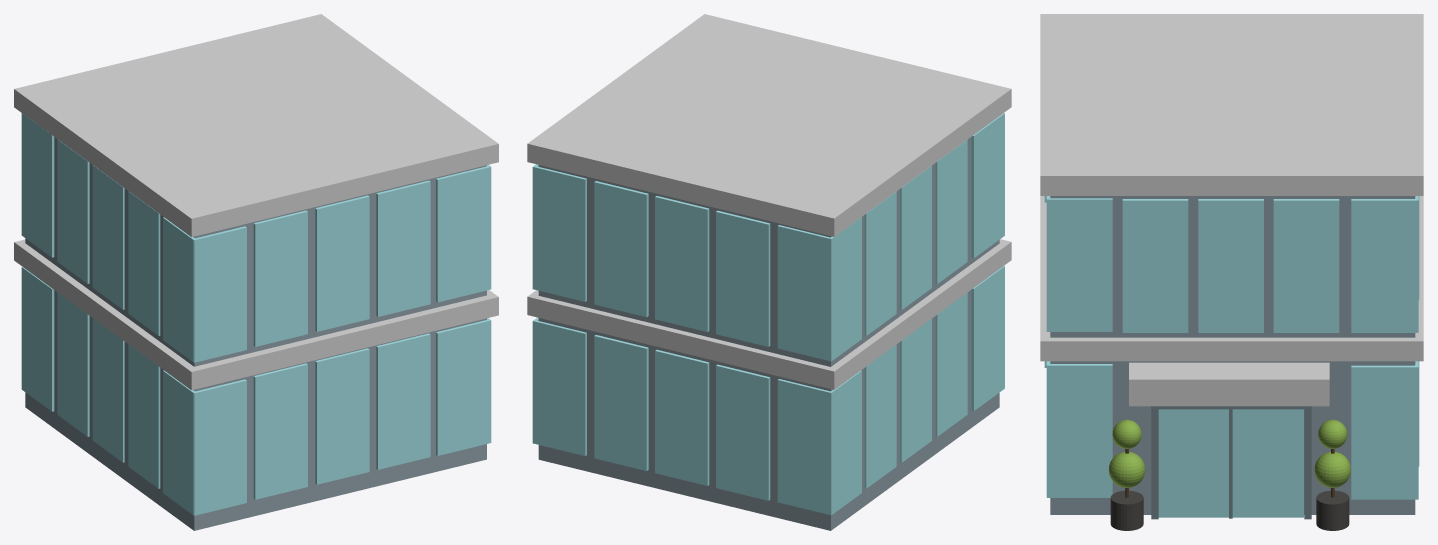
File: modernofficebase.glb
The picture shows the model from 3 angles, left to right: view 1: azimuth 30°, elevation 25°; view 2: azimuth 150°, elevation 25°; view 3: azimuth 270°, elevation 25°; orthographic projection. The views are drawn at different scales.
Parts seen in each view (by area): view 1: Cube.003, Cube, Cube.002, Cube.025, Cube.029, Cube.007, Cube.011, Cube.034, Cube.030, Cube.031, Cube.032, Cube.035 (+9 smaller); view 2: Cube.003, Cube, Cube.002, Cube.021, Cube.017, Cube.016, Cube.020, Cube.010, Cube.018, Cube.019, Cube.012, Cube.014 (+9 smaller); view 3: Cube.003, Cube, Cube.001, Cube.002, Cube.010, Cube.008, Cube.009, Cube.011, Cube.004, Cube.005, Cube.007, Cube.006 (+7 smaller).
Boxes of the visible parts, x1=… form: Cube.003: x1=14, y1=14, x2=498, y2=237; Cube: x1=25, y1=137, x2=486, y2=530; Cube.002: x1=14, y1=239, x2=498, y2=390; Cube.025: x1=163, y1=217, x2=246, y2=362; Cube.029: x1=163, y1=370, x2=246, y2=515; Cube.007: x1=436, y1=318, x2=491, y2=455; Cube.011: x1=436, y1=165, x2=491, y2=302; Cube.034: x1=315, y1=348, x2=369, y2=484; Cube.030: x1=376, y1=180, x2=430, y2=316; Cube.031: x1=315, y1=195, x2=369, y2=331; Cube.032: x1=253, y1=210, x2=307, y2=346; Cube.035: x1=253, y1=363, x2=307, y2=499; Cube.003: x1=527, y1=14, x2=1011, y2=236; Cube: x1=538, y1=137, x2=999, y2=530; Cube.002: x1=527, y1=239, x2=1011, y2=389; Cube.021: x1=777, y1=370, x2=861, y2=515; Cube.017: x1=777, y1=217, x2=861, y2=361; Cube.016: x1=716, y1=210, x2=770, y2=346; Cube.020: x1=716, y1=364, x2=770, y2=500; Cube.010: x1=532, y1=317, x2=586, y2=455; Cube.018: x1=594, y1=335, x2=648, y2=470; Cube.019: x1=655, y1=349, x2=709, y2=485; Cube.012: x1=594, y1=181, x2=648, y2=317; Cube.014: x1=655, y1=196, x2=709, y2=331; Cube.003: x1=1040, y1=14, x2=1423, y2=195; Cube: x1=1050, y1=196, x2=1415, y2=514; Cube.001: x1=1158, y1=409, x2=1303, y2=517; Cube.002: x1=1040, y1=196, x2=1423, y2=361; Cube.010: x1=1351, y1=361, x2=1418, y2=499; Cube.008: x1=1351, y1=196, x2=1418, y2=332; Cube.009: x1=1129, y1=362, x2=1329, y2=406; Cube.011: x1=1046, y1=196, x2=1112, y2=331; Cube.004: x1=1122, y1=199, x2=1188, y2=332; Cube.005: x1=1273, y1=199, x2=1339, y2=332; Cube.007: x1=1046, y1=361, x2=1112, y2=497; Cube.006: x1=1198, y1=199, x2=1263, y2=332.
Size of the model in its own units: 2.28 by 2.08 by 2.1.
